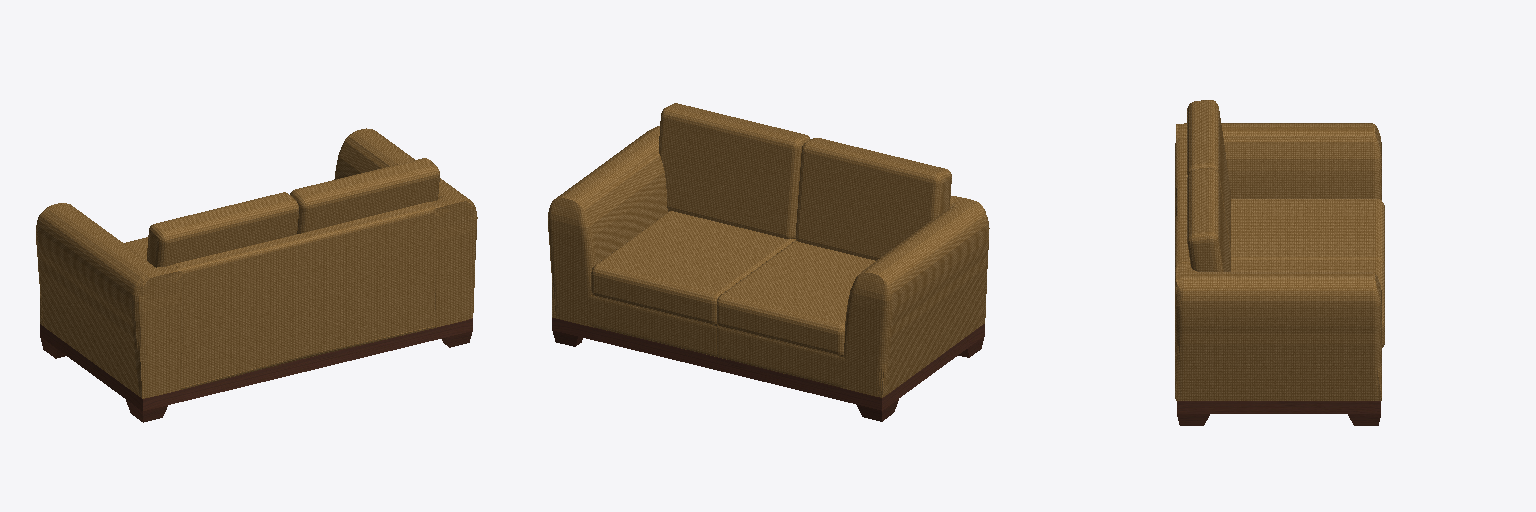
The picture shows the model from 3 angles: view 1: azimuth 30°, elevation 25°; view 2: azimuth 150°, elevation 25°; view 3: azimuth 270°, elevation 25°; orthographic projection.
Visible parts, largest first — view 1: main, base; view 2: main, base; view 3: main, base.
Part boxes in pixels (x1,y1,x2,y2): main: (36, 128, 477, 398); base: (40, 318, 472, 422); main: (548, 103, 989, 397); base: (552, 318, 984, 421); main: (1175, 100, 1384, 400); base: (1177, 401, 1380, 425).
Bounding box in the file's own units: 180 × 90 × 95.01.
Materials: 2 (2 with a texture image).